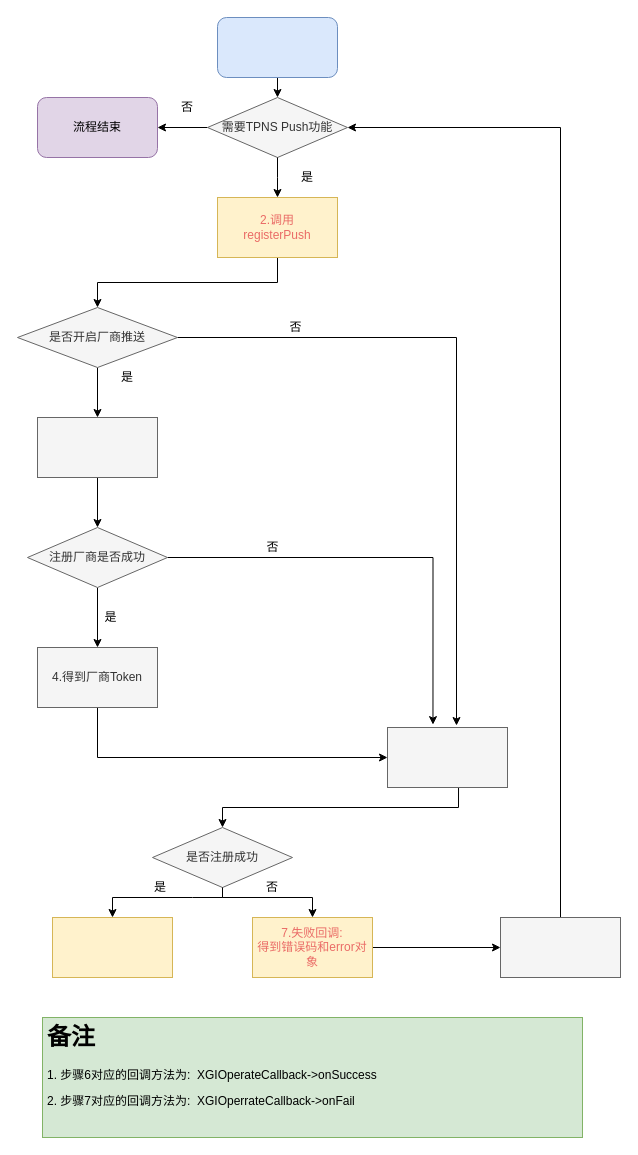
Some shapes in this 638 by 1155 pixel diagram are drawn without their labels. Each missing label, with the centre of its shape:
"1.打开App" belongs at (x=277, y=47).
"3 向厂商请求 Token" belongs at (x=97, y=447).
"5.注册设备，获取TPNS Token" belongs at (x=447, y=757).
"6.成功回调: 得到TPNS Token" belongs at (x=112, y=947).
"8.下次打开App进程，再次发起注册" belongs at (x=560, y=947).
